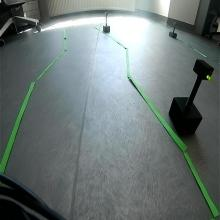green: (194, 59, 214, 82)
